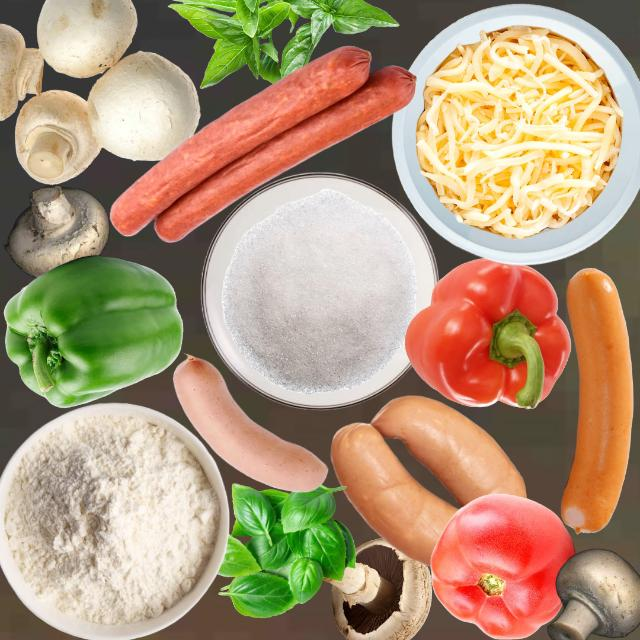Flour: (3, 412, 218, 625)
Sugar: (220, 187, 417, 393)
